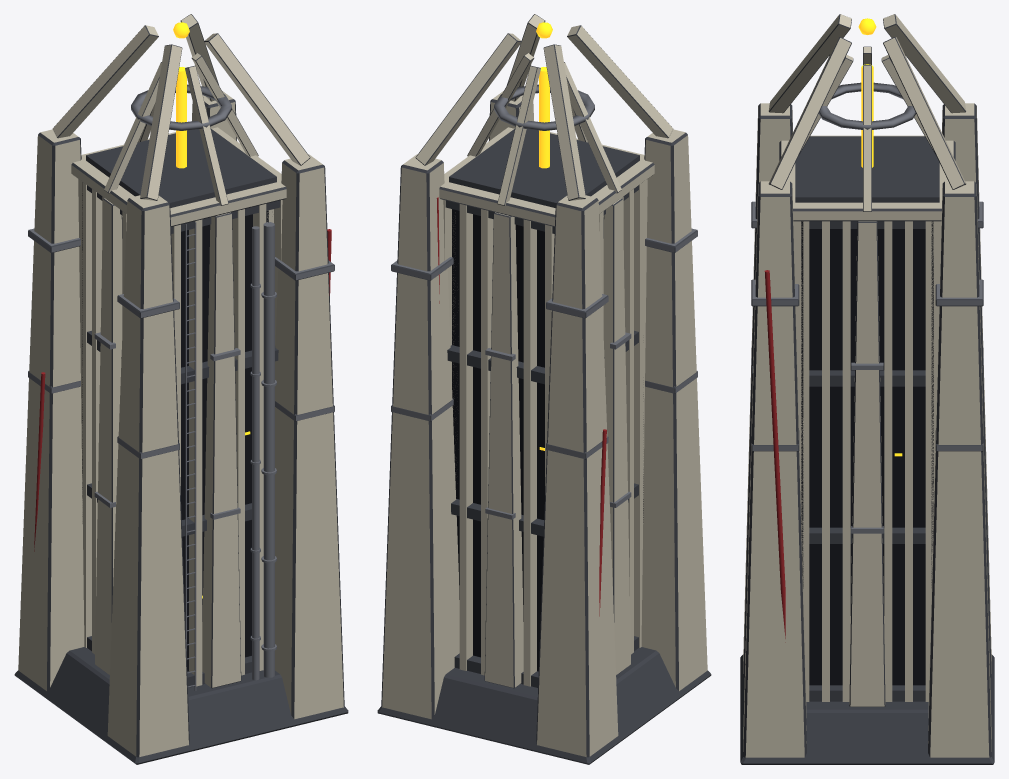
Rendered from ribbed_stack.glb.
The picture shows the model from 3 angles, left to right: view 1: azimuth 30°, elevation 25°; view 2: azimuth 150°, elevation 25°; view 3: azimuth 270°, elevation 25°; orthographic projection. The views are drawn at different scales.
Parts seen in each view (by area): view 1: ribbed_stack; view 2: ribbed_stack; view 3: ribbed_stack.
Part boxes in pixels (<box>): ribbed_stack: <box>14,14,348,764</box>; ribbed_stack: <box>377,14,711,764</box>; ribbed_stack: <box>740,14,994,764</box>.
Bounding box in the file's own units: 12.68 × 38.15 × 12.68.
